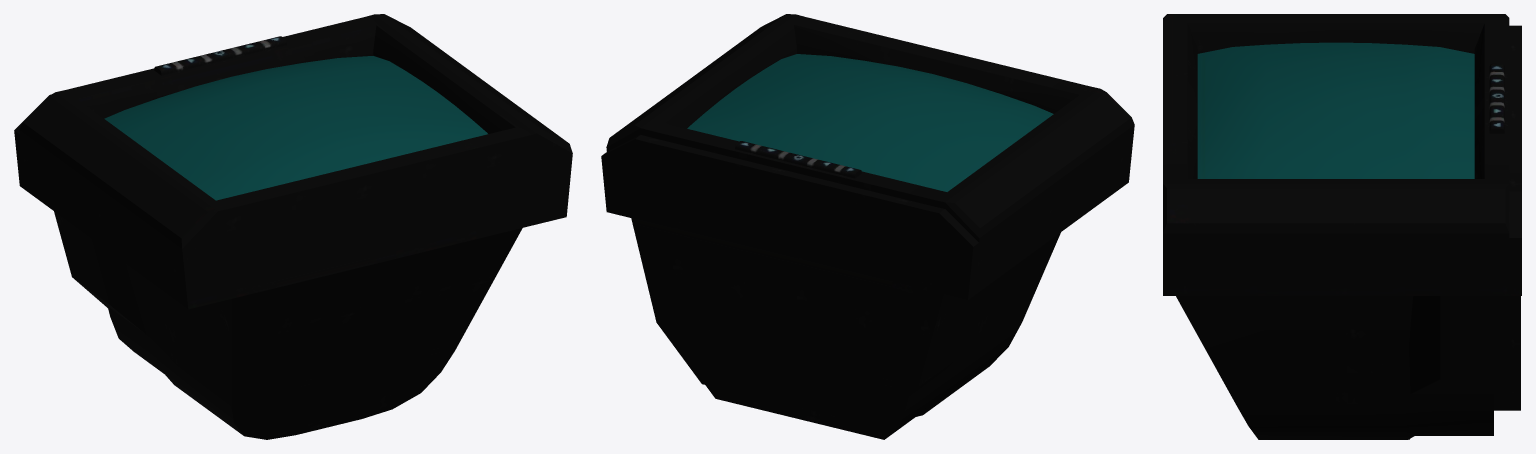
3 views of the same model, side by side, from view 1: azimuth 30°, elevation 25°; view 2: azimuth 150°, elevation 25°; view 3: azimuth 270°, elevation 25° (orthographic). The views are drawn at different scales.
Visible parts, largest first — view 1: TV_Frame, TV_Back1, TV_Screen, TV_Back2, TV_Buttons; view 2: TV_Frame, TV_Back2, TV_Screen, TV_Back1, TV_Buttons; view 3: TV_Frame, TV_Screen, TV_Back1, TV_Back2, TV_Buttons.
Boxes of the visible parts, x1,y1,x2,y2 form: TV_Frame: [14, 14, 572, 309]; TV_Back1: [107, 228, 522, 439]; TV_Screen: [104, 56, 487, 200]; TV_Back2: [54, 211, 146, 334]; TV_Buttons: [154, 36, 286, 75]; TV_Frame: [601, 14, 1134, 300]; TV_Back2: [631, 218, 972, 425]; TV_Screen: [687, 54, 1053, 191]; TV_Back1: [705, 232, 1060, 439]; TV_Buttons: [735, 141, 861, 178]; TV_Frame: [1163, 14, 1521, 295]; TV_Screen: [1197, 42, 1474, 178]; TV_Back1: [1176, 296, 1493, 439]; TV_Back2: [1408, 296, 1520, 410]; TV_Buttons: [1489, 63, 1504, 133].
Size of the model in its own units: 2.18 by 1.59 by 1.63.
1 material, 1 textured.
